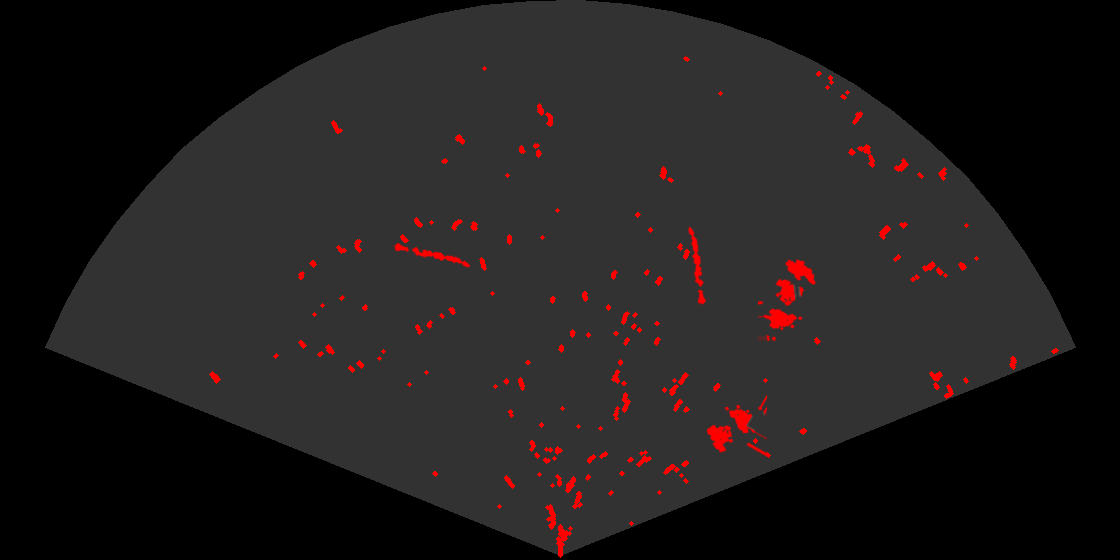AUV: (784, 258, 817, 286)
cage: (705, 393, 767, 458), (758, 277, 806, 341)
chain: (392, 241, 472, 269), (687, 225, 708, 306)
